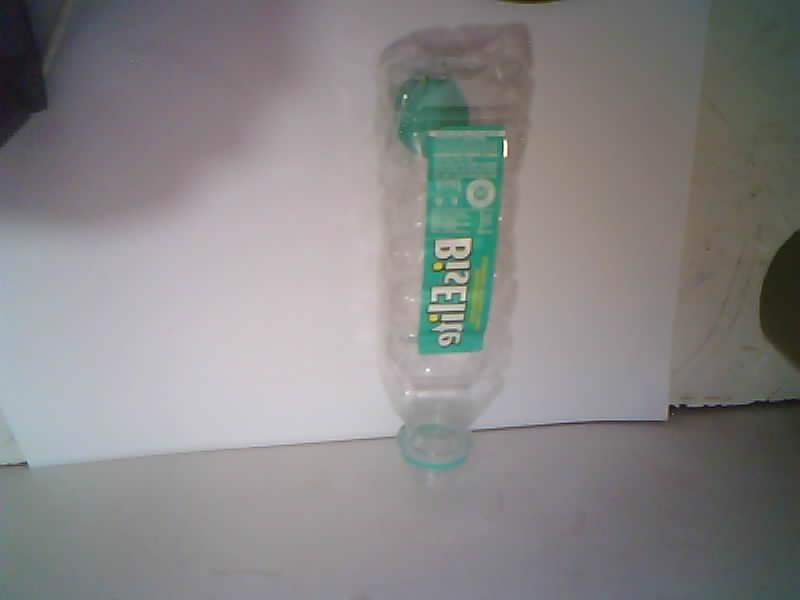non-biodegradable: (367, 26, 531, 470)
